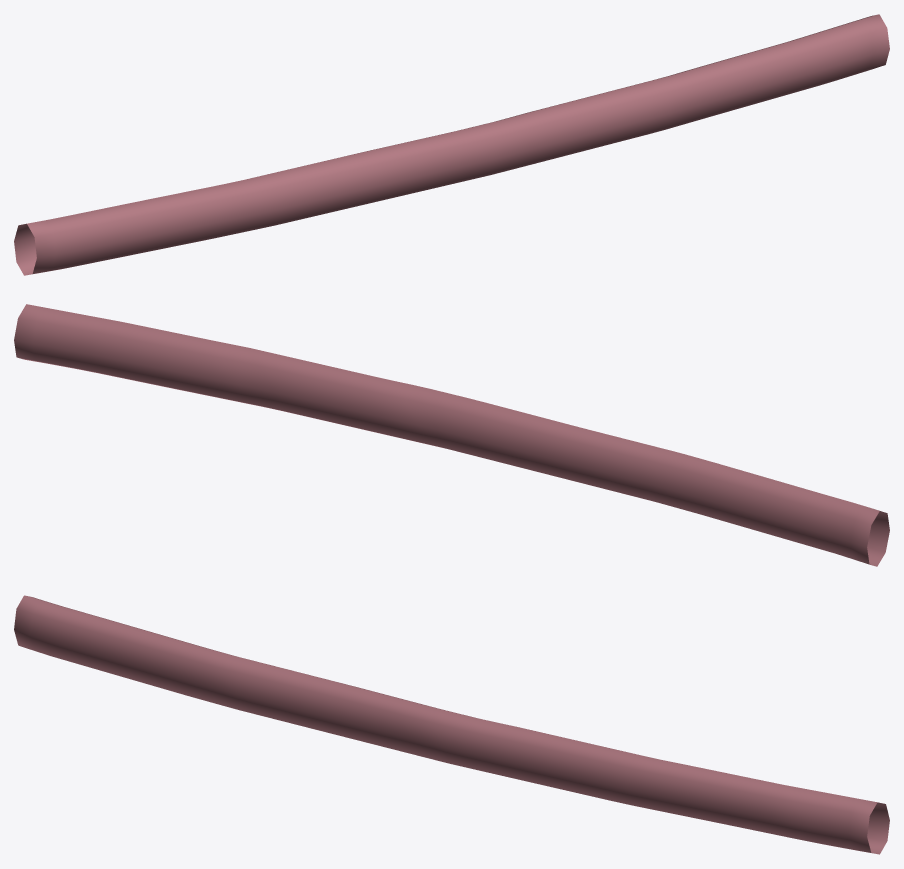
3 renders of one model, top to bottom at view 1: azimuth 30°, elevation 25°; view 2: azimuth 150°, elevation 25°; view 3: azimuth 330°, elevation 25°, orthographic.
Visible parts, largest first — view 1: Mouth_Lip; view 2: Mouth_Lip; view 3: Mouth_Lip.
Boxes of the visible parts, box(x1,y1,x2,y2) form: Mouth_Lip: box(14, 14, 889, 275); Mouth_Lip: box(14, 304, 889, 566); Mouth_Lip: box(14, 595, 889, 854).
Size of the model in its own units: 0.086 by 0.0052 by 0.00644.
